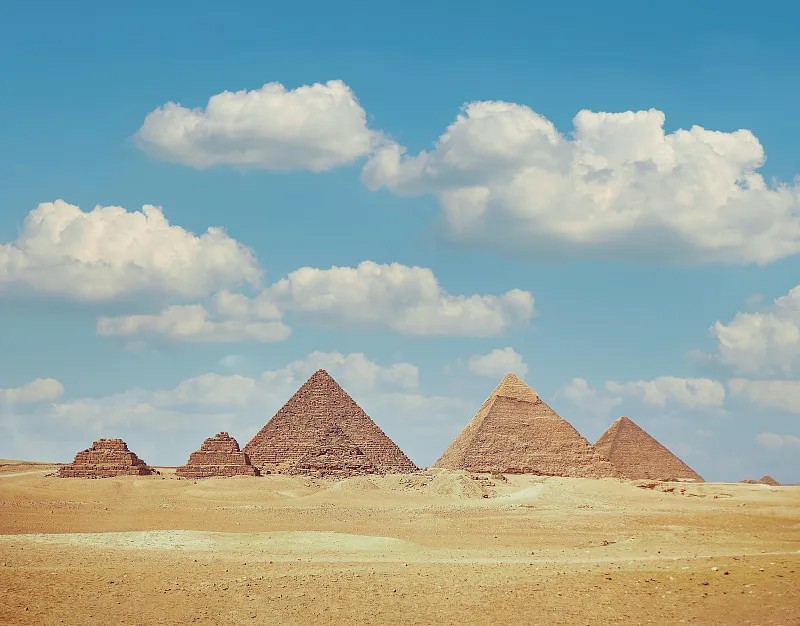Pyramid: (435, 371, 628, 477), (243, 369, 420, 471), (592, 418, 704, 481), (290, 424, 379, 474), (57, 438, 157, 479), (175, 432, 259, 477)
